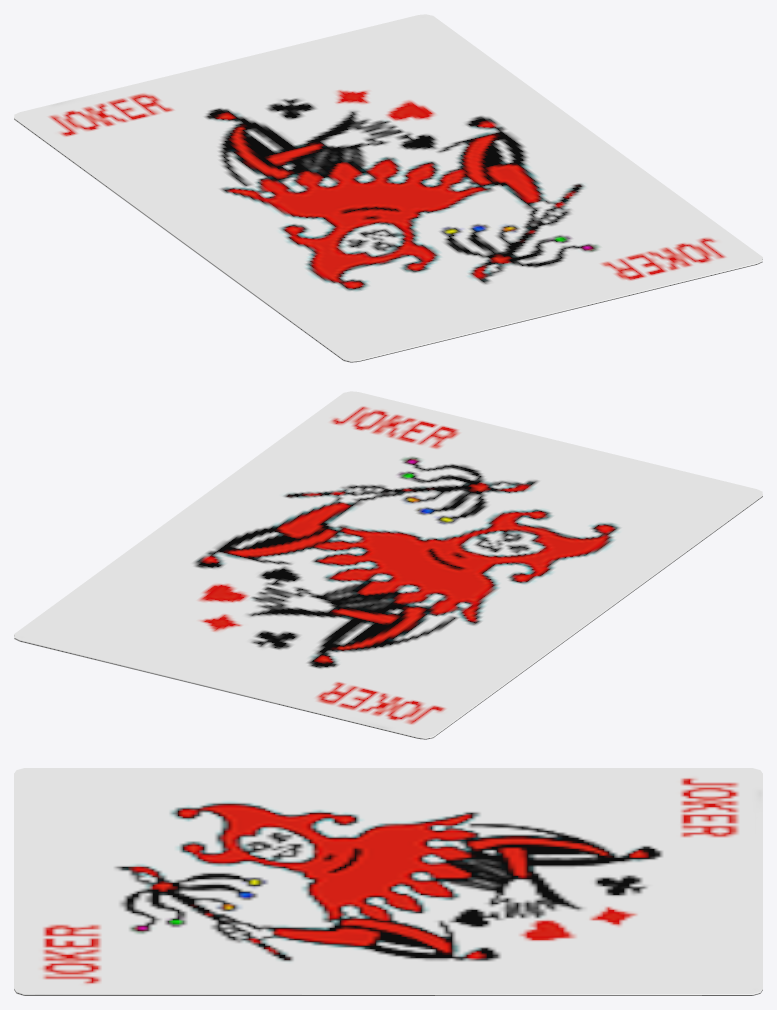
Rendered from Joker_Red.fbx.
The picture shows the model from 3 angles, top to bottom: view 1: azimuth 30°, elevation 25°; view 2: azimuth 150°, elevation 25°; view 3: azimuth 270°, elevation 25°; orthographic projection. The views are drawn at different scales.
Parts seen in each view (by area): view 1: Joker_Red; view 2: Joker_Red; view 3: Joker_Red.
Part boxes in pixels (x1,y1,x2,y2): Joker_Red: [14, 14, 762, 362]; Joker_Red: [14, 391, 762, 739]; Joker_Red: [14, 768, 762, 995].
Size of the model in its own units: 6.35 by 0.0239 by 8.89.
